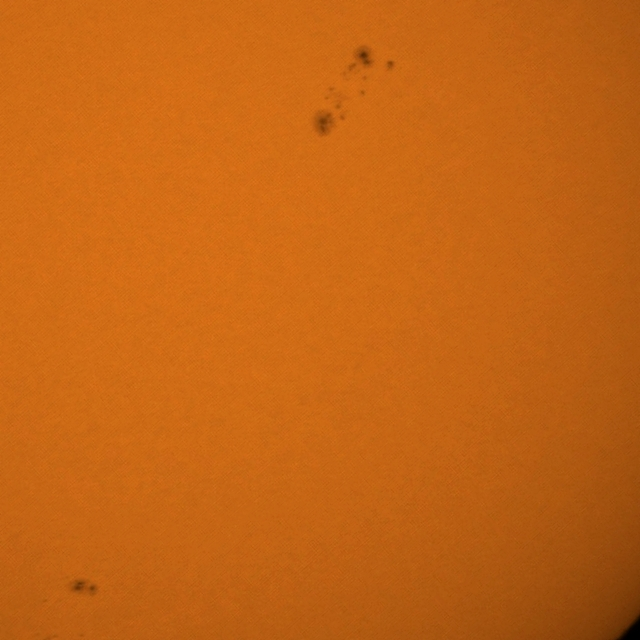sunspot: (302, 100, 346, 141), (344, 46, 374, 84), (71, 576, 99, 597), (385, 59, 397, 73)
